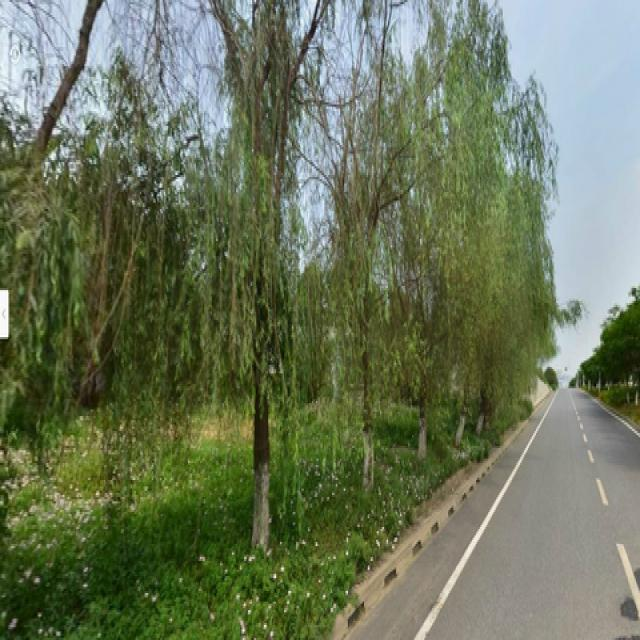plat: (185, 21, 308, 518), (322, 25, 409, 478), (422, 60, 474, 478)
